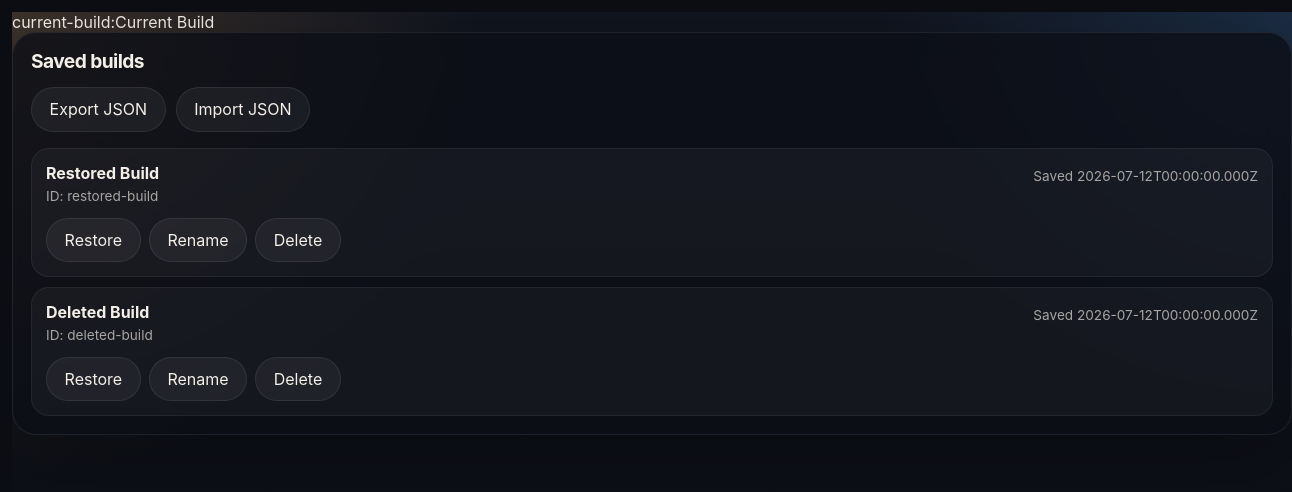
Test: Saved builds UI › renders saved builds, restores a build, and removes a build from the list
Expected: the heading "Restored Build" is shown, [46,162,159,182]
Expected: the heading "Deleted Build" is shown, [46,302,153,322]
Click the button "Restore" below "restored-build" at (93, 240), box [46,218,141,262]
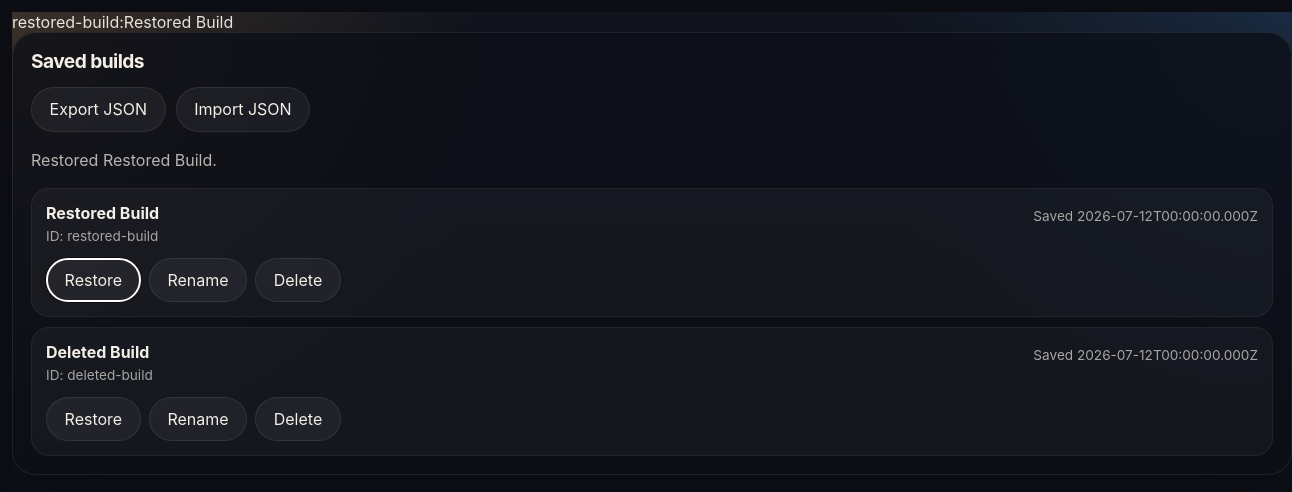
Expected: the text with test id "current-build" reads "restored-build:Restored Build", [12,12,233,32]
Click the button "Delete" below "deleted-build" at (298, 419), box [255,397,341,441]
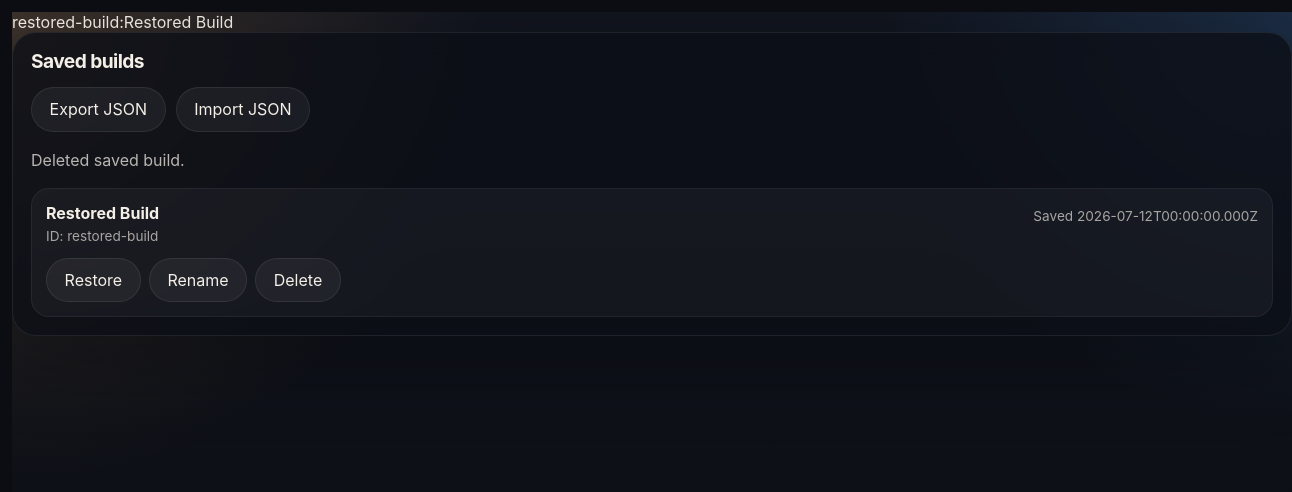
Expected: the heading "Deleted Build" is gone
